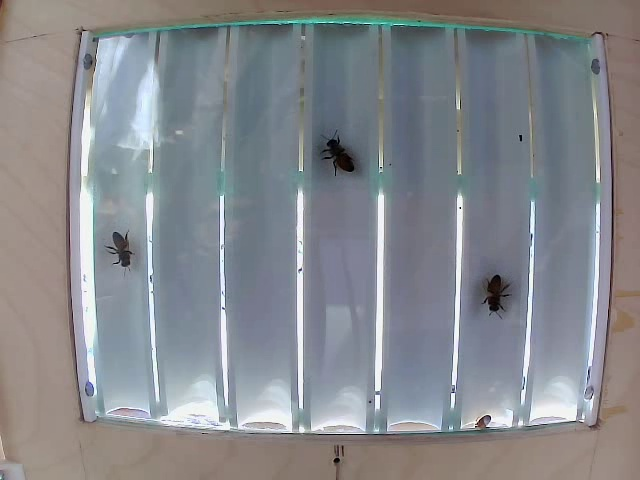bee: (475, 262, 530, 334), (92, 227, 143, 282), (316, 119, 360, 173)
